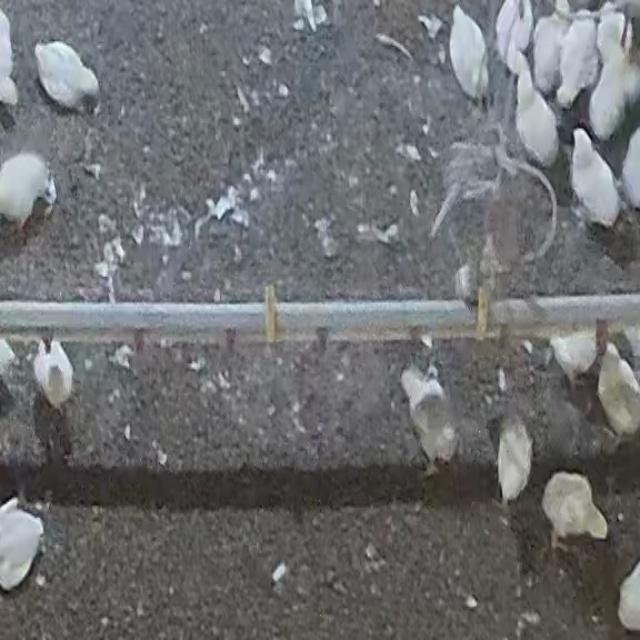chicken: (399, 357, 462, 476), (588, 10, 637, 142), (510, 54, 560, 171), (540, 472, 610, 546), (554, 7, 602, 112), (34, 40, 100, 112), (594, 343, 640, 443), (1, 150, 55, 232), (574, 126, 619, 224), (448, 5, 488, 102), (495, 408, 534, 504), (530, 2, 570, 95), (546, 332, 600, 389), (31, 339, 74, 408), (495, 1, 533, 75)
